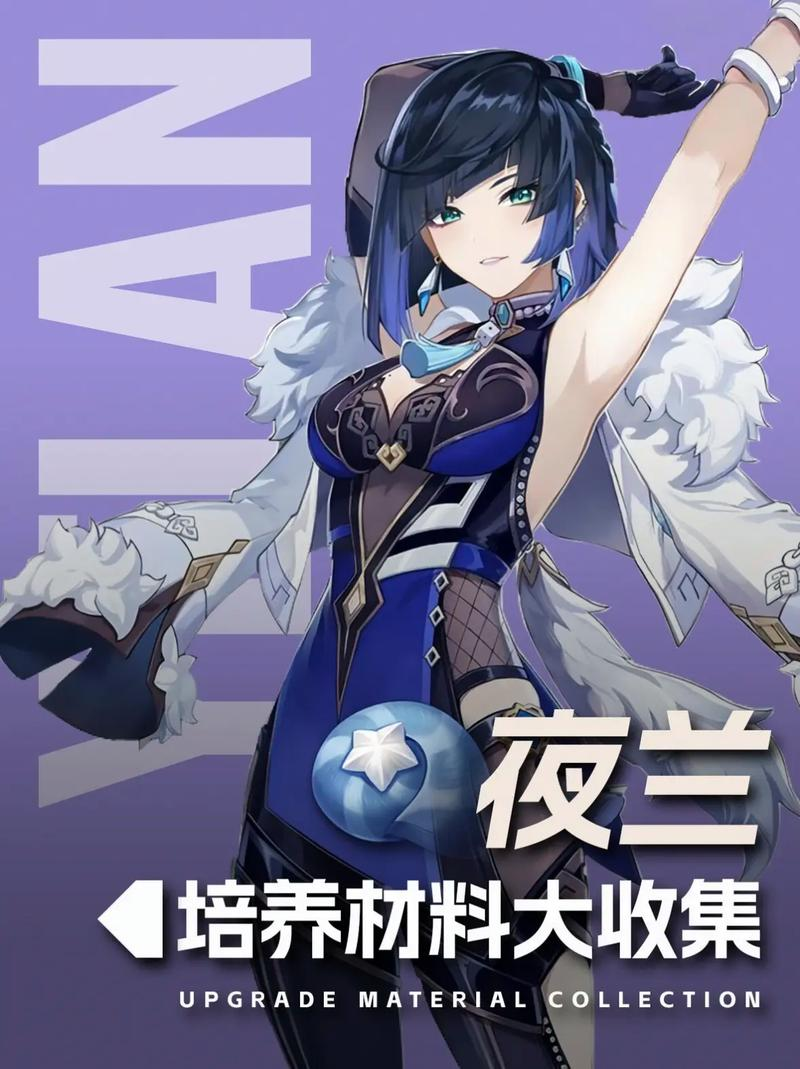夜兰: (229, 13, 800, 1069)
